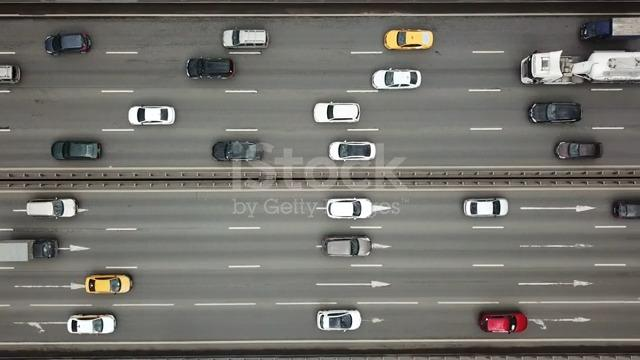Cars: (528, 102, 582, 124), (384, 28, 434, 51), (322, 235, 372, 258), (45, 32, 92, 56), (186, 57, 235, 80), (213, 140, 264, 162), (372, 68, 422, 90), (67, 313, 117, 335), (329, 140, 377, 162), (314, 102, 361, 124), (85, 274, 133, 295), (128, 105, 176, 126), (52, 141, 102, 161), (222, 29, 270, 49), (463, 198, 509, 218), (555, 141, 602, 160), (612, 199, 640, 219)
